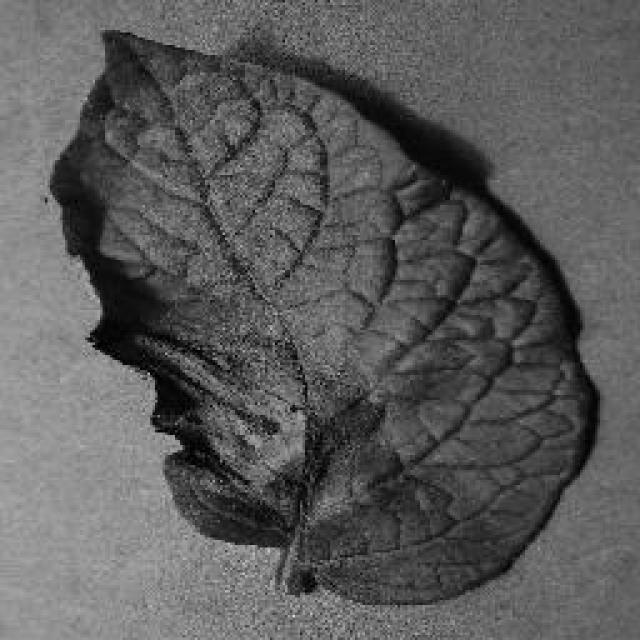Potato: (48, 25, 600, 605)
